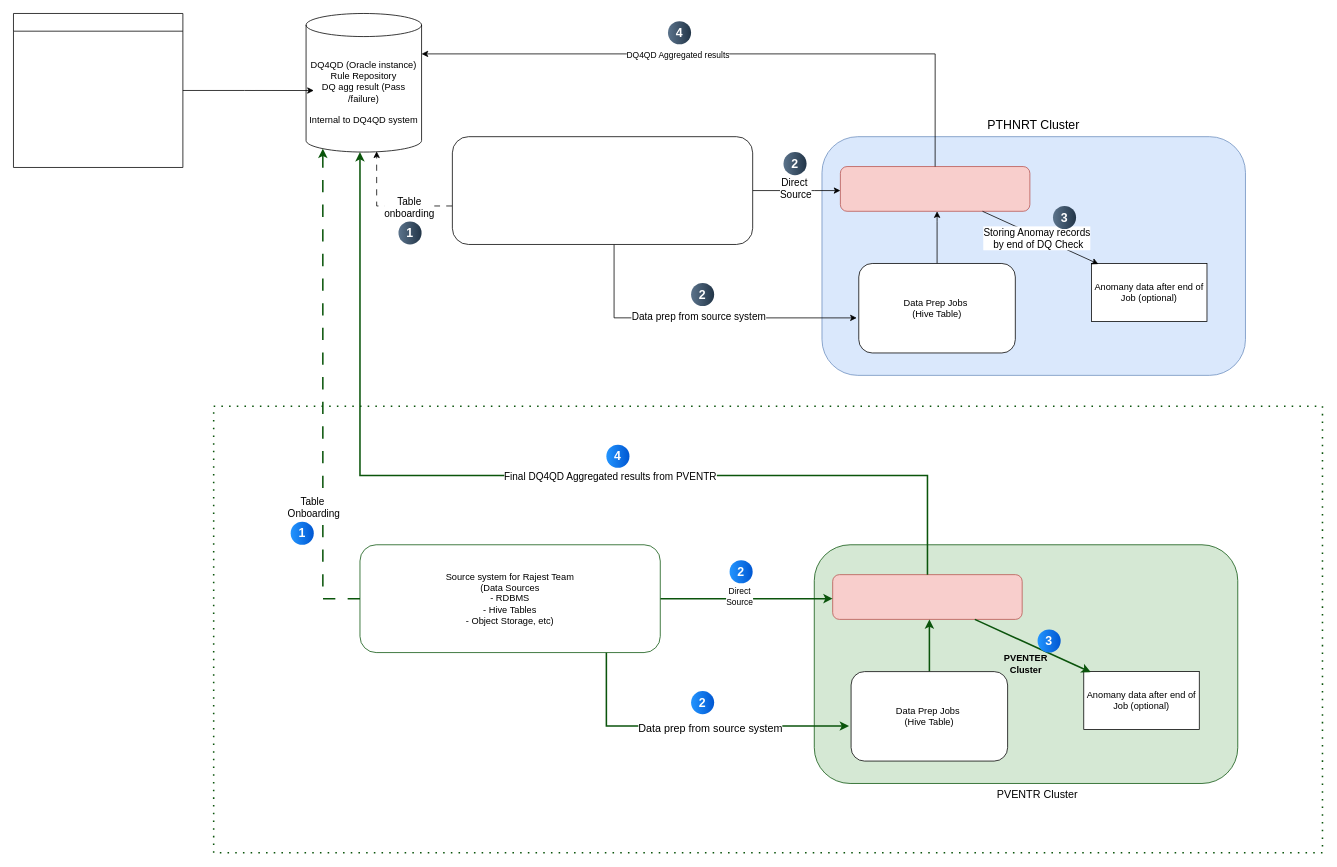
Image size: 1337x867. Some labels were removed from this diagram. Here are the shapes that lost their labels. From the top down, the centre of each, then its label:
point 98,90: DQ4QD UI
point 602,190: Data Sources - RDBMS - Hive Tables - Object Storage, etc
point 935,188: Rule Execution (PySpark Engine) Binary, Scripts
point 927,596: Rule Execution (PySpark Engine) Replica of Binary, Scripts
